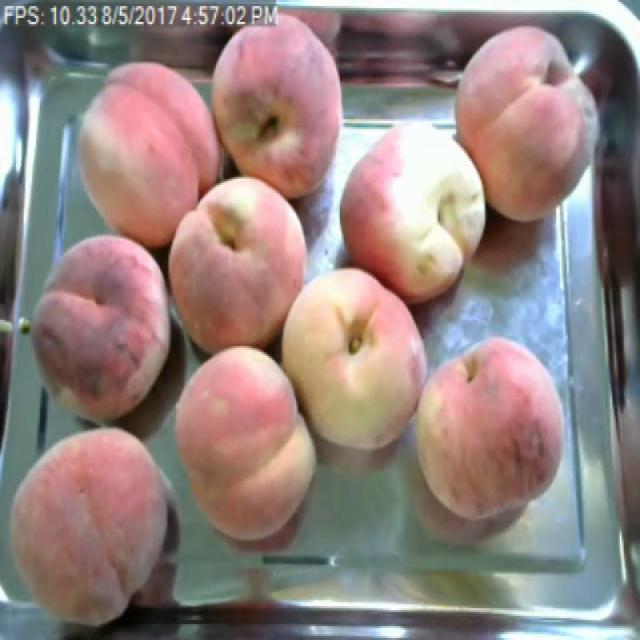Fruit: (0, 415, 184, 640), (436, 10, 612, 236), (15, 221, 185, 441), (266, 255, 438, 461), (404, 328, 576, 533), (330, 115, 502, 316), (166, 336, 326, 548), (70, 52, 234, 254), (202, 8, 354, 213), (167, 165, 321, 362)
